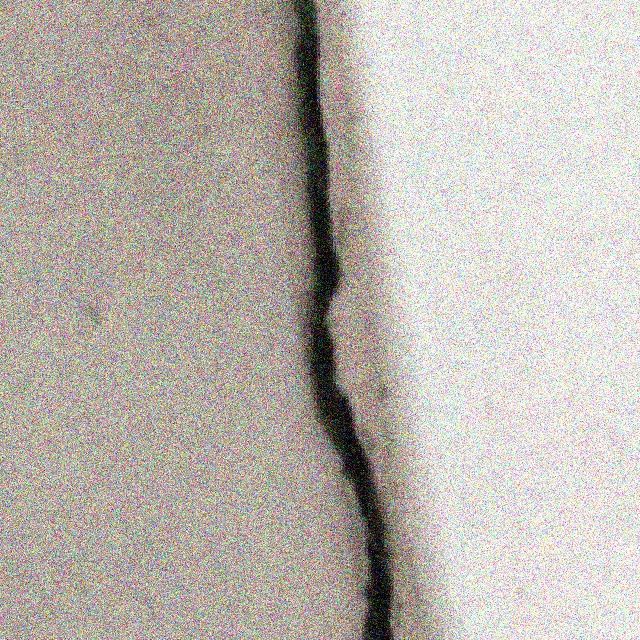SurfaceCrack: (216, 0, 496, 640)
